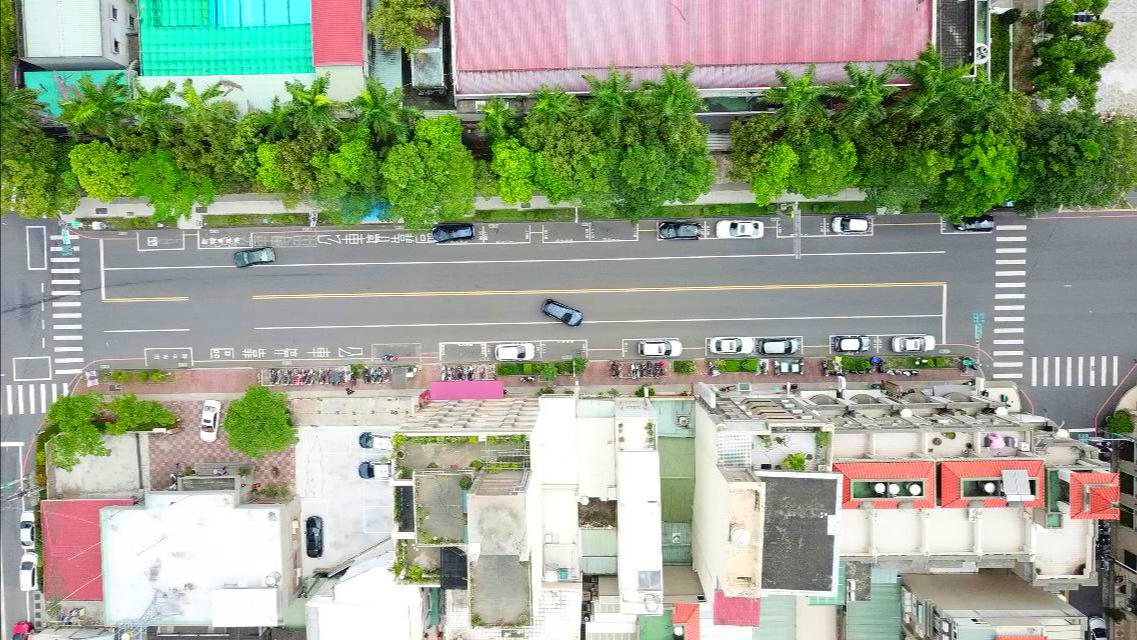vehicle: (541, 299, 583, 327), (200, 398, 223, 442), (232, 246, 277, 268), (431, 224, 474, 247), (892, 334, 936, 355), (658, 221, 700, 243), (709, 335, 755, 355), (494, 342, 535, 364), (716, 220, 763, 239), (637, 339, 683, 358), (305, 516, 323, 562), (758, 336, 797, 357), (20, 552, 39, 593), (831, 216, 871, 234), (19, 510, 37, 550), (358, 432, 393, 452), (952, 214, 993, 231), (359, 461, 391, 482), (834, 336, 870, 353), (1085, 616, 1108, 639), (9, 621, 33, 639)
